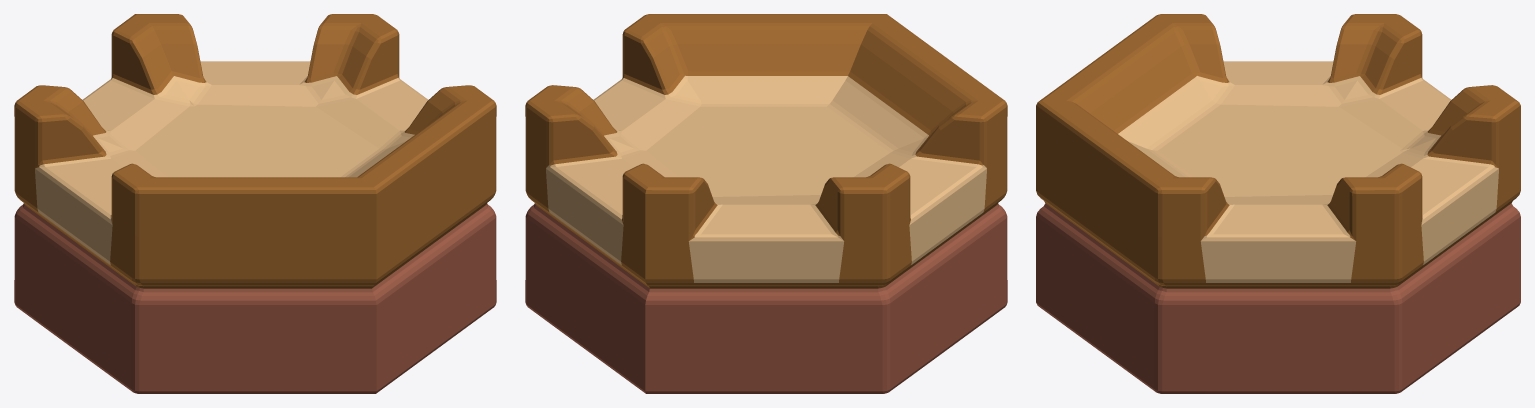
File: my_road_1234.fbx
3 renders of one model, left to right at view 1: azimuth 30°, elevation 25°; view 2: azimuth 150°, elevation 25°; view 3: azimuth 270°, elevation 25°, orthographic.
Visible parts, largest first — view 1: Circle.004; view 2: Circle.004; view 3: Circle.004.
Boxes of the visible parts, <box> form: Circle.004: <box>14,14,496,393</box>; Circle.004: <box>525,14,1007,393</box>; Circle.004: <box>1036,14,1520,393</box>.
Bounding box in the file's own units: 200 × 109 × 231.
